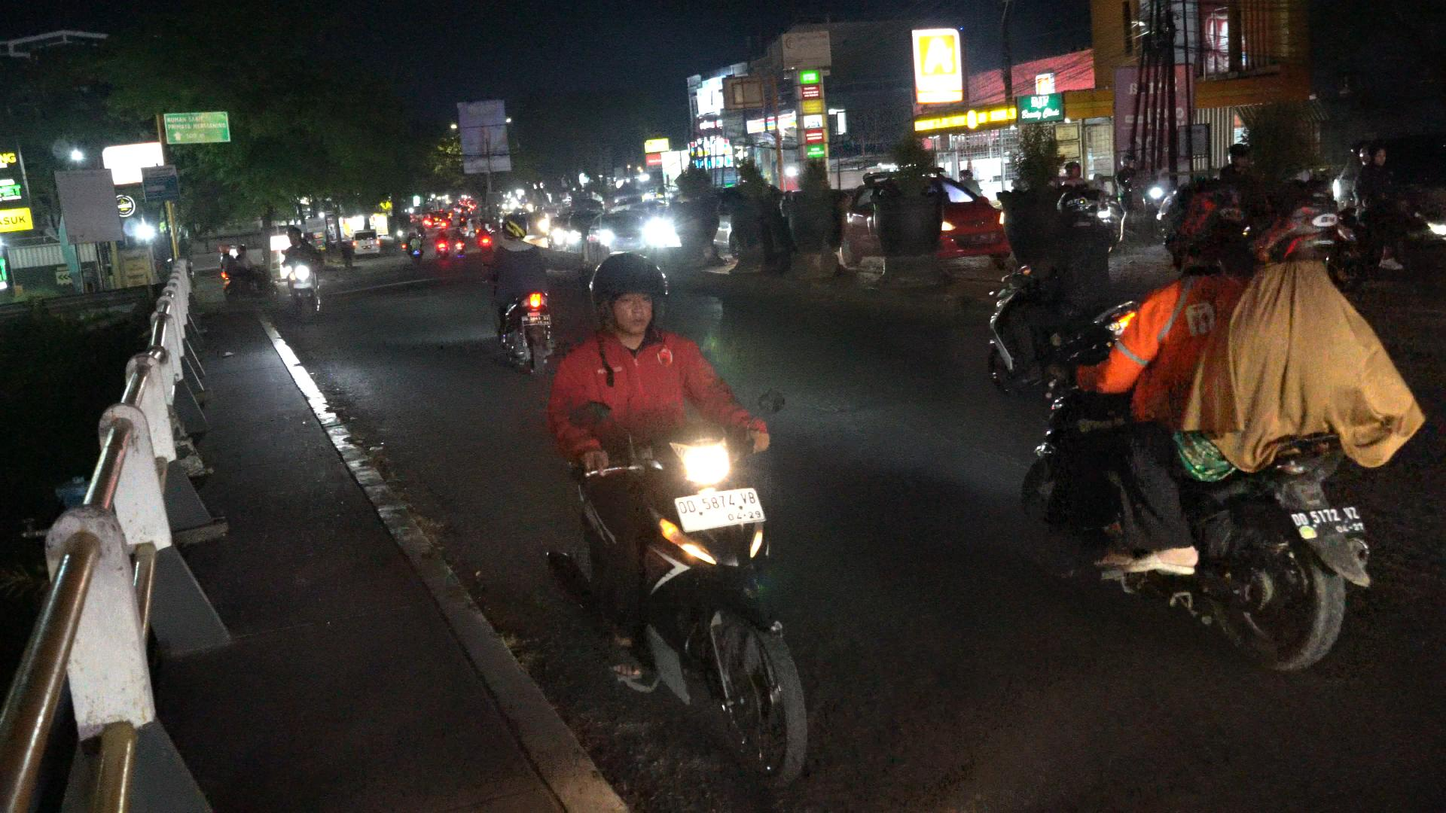number-plate: (665, 488, 770, 532)
